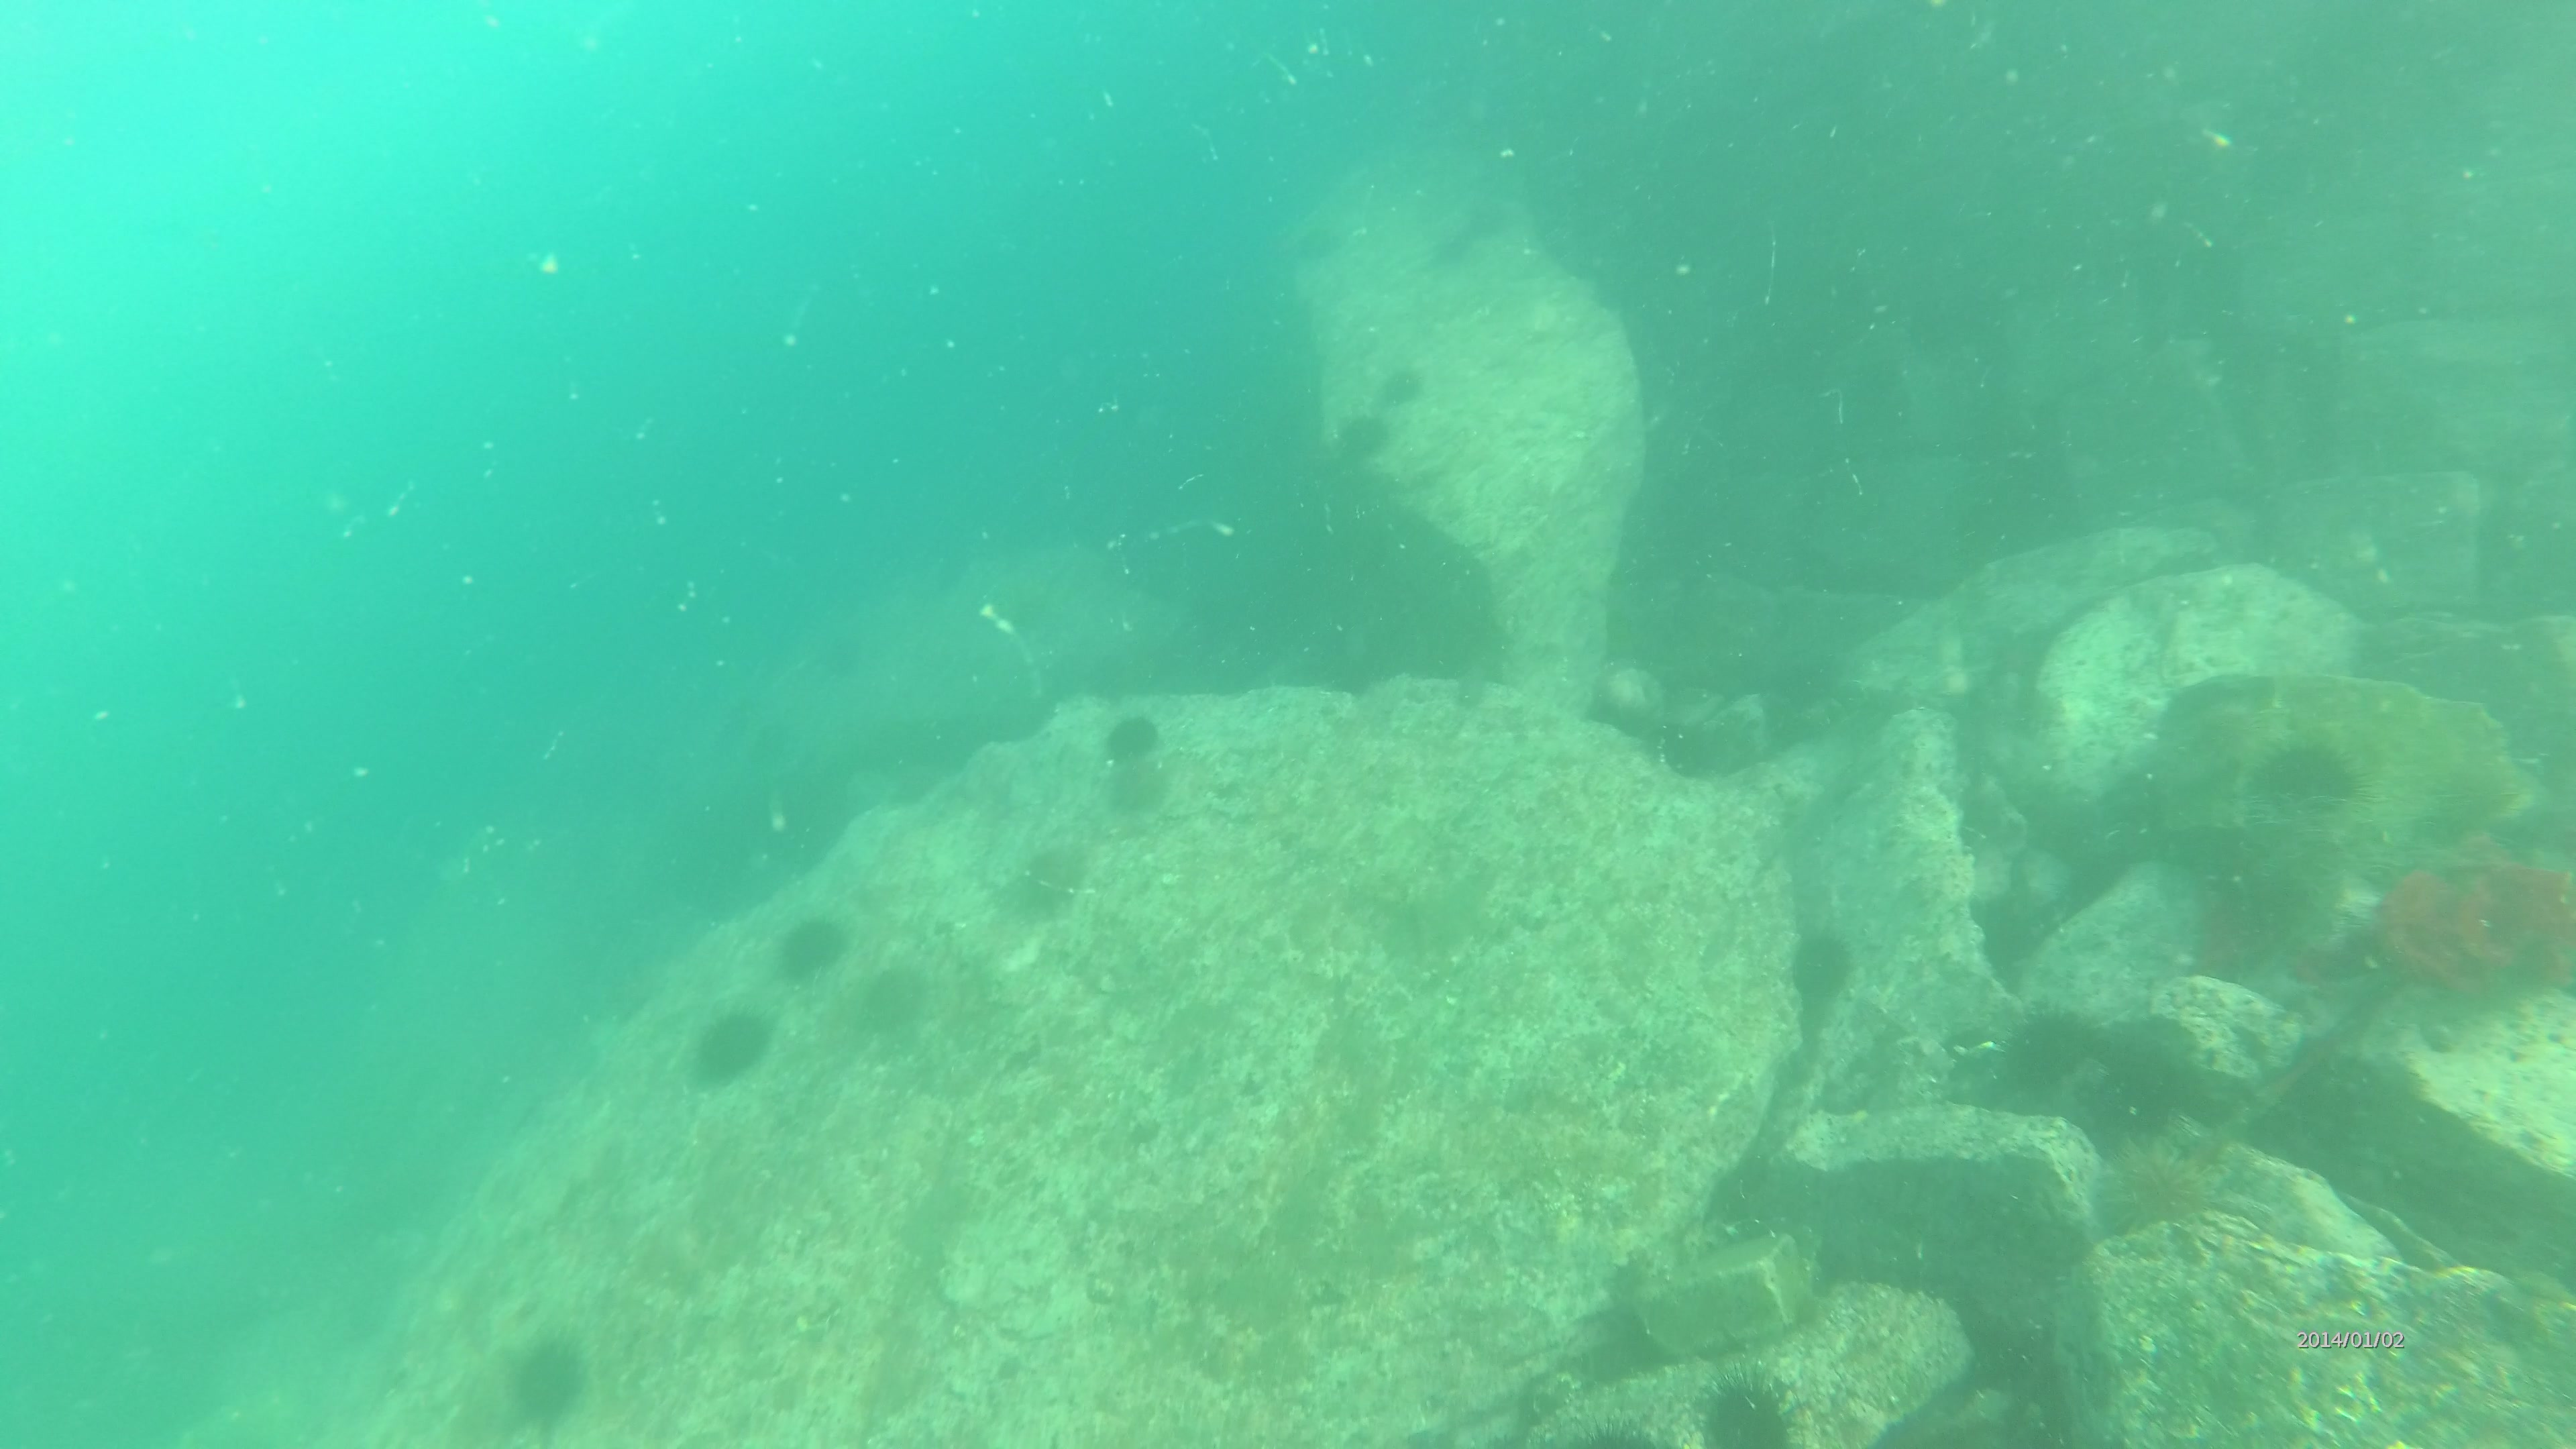echinus: (2097, 1136, 2220, 1238), (2242, 736, 2383, 821), (1996, 996, 2093, 1102), (1695, 1362, 1813, 1449), (506, 1336, 594, 1438), (678, 1008, 775, 1097), (1776, 915, 1865, 1008), (2107, 1016, 2190, 1115), (764, 908, 853, 998), (1957, 878, 2052, 957), (1012, 842, 1095, 922), (860, 962, 924, 1049), (1111, 757, 1182, 824), (1093, 708, 1164, 773), (1330, 405, 1399, 467), (1371, 359, 1435, 410)
